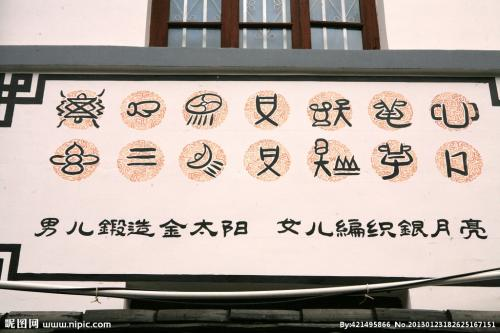chinese: (27, 209, 494, 242)
naxi: (51, 82, 487, 134), (44, 133, 474, 182)
